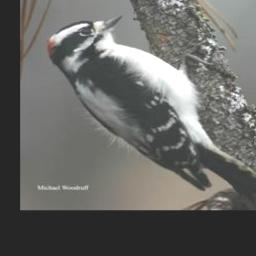Woodpecker: (46, 15, 256, 201)
